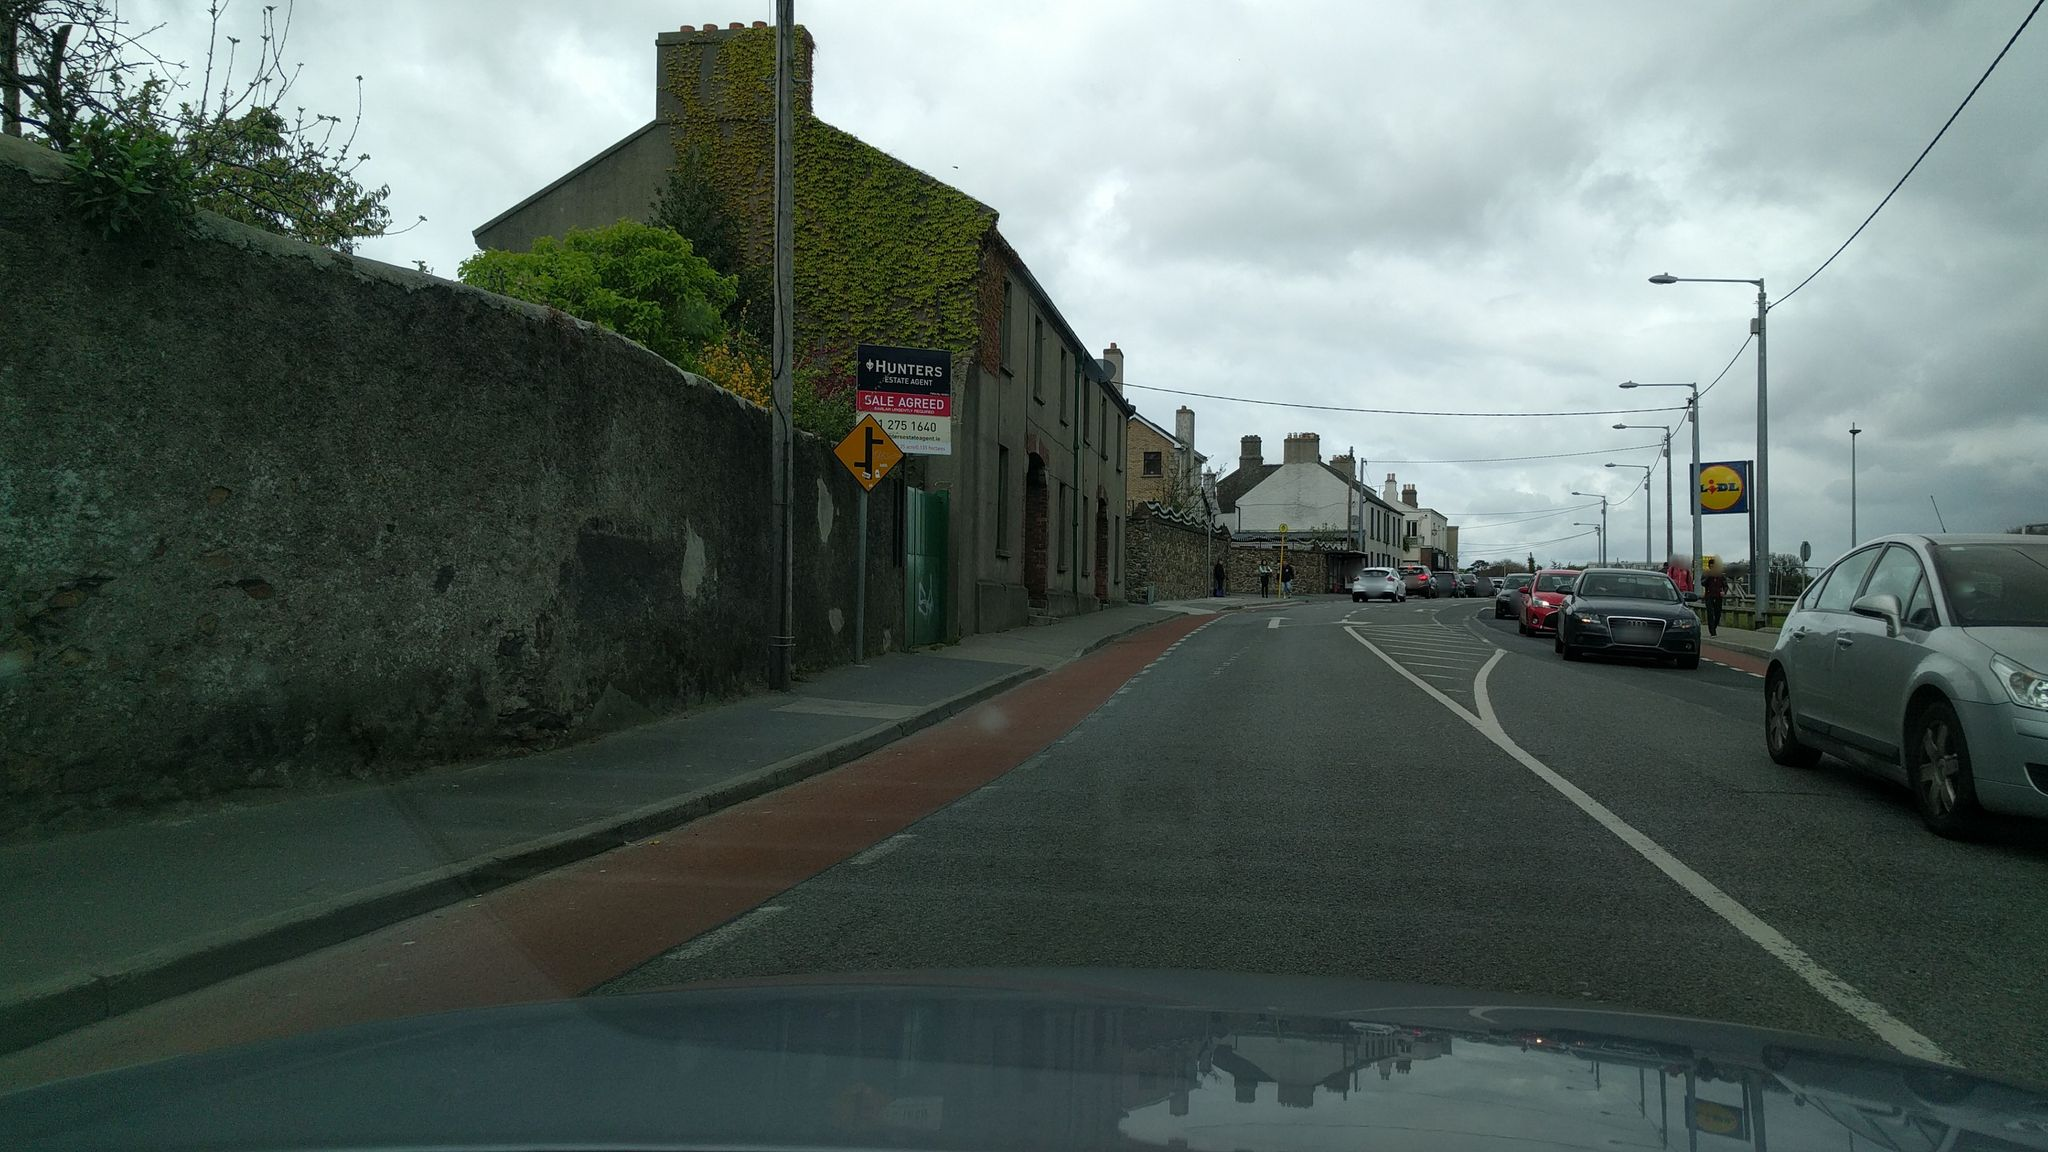property sign: (841, 326, 965, 454)
